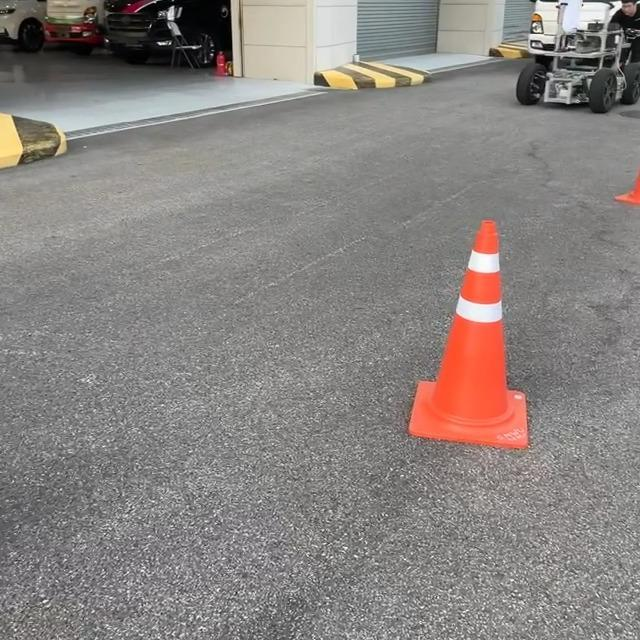fallen_object: (349, 182, 572, 498)
